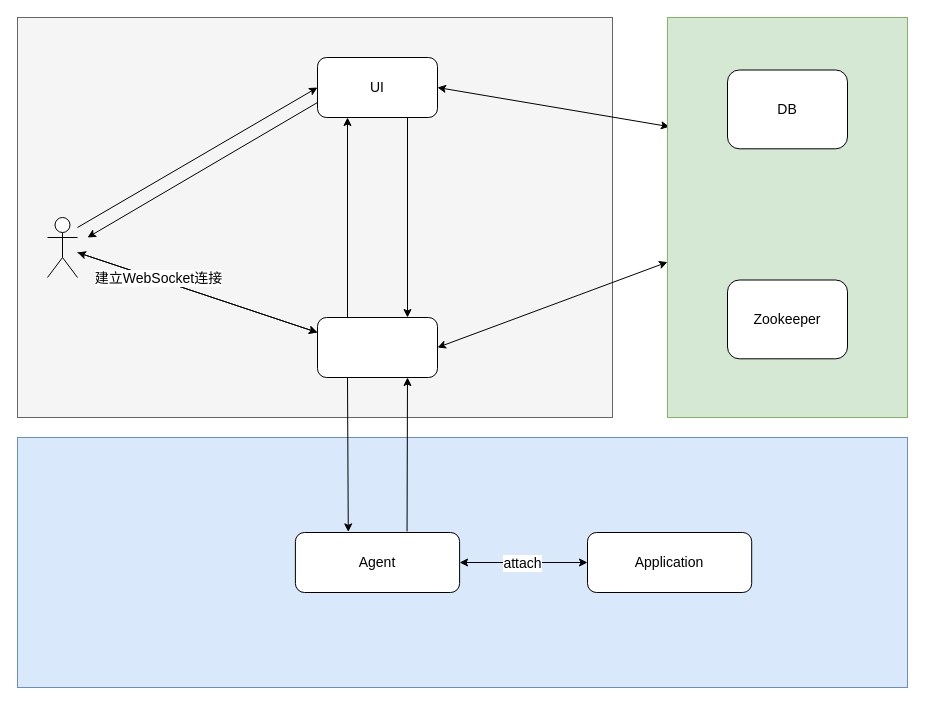
Some shapes in this 925 by 705 pixel diagram are drawn without their labels. Each missing label, with the box of its shape:
Actor: (46, 216, 78, 278)
Proxy: (316, 316, 438, 378)
